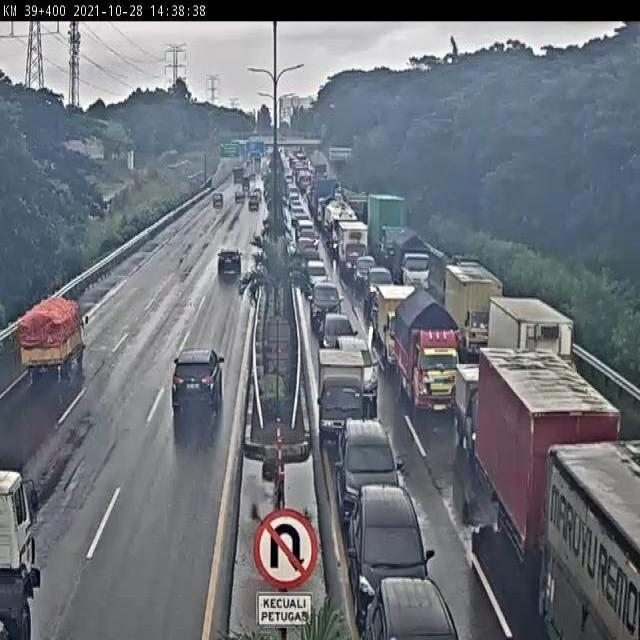big truck: (471, 348, 626, 563), (551, 442, 640, 640), (0, 458, 54, 640), (491, 294, 589, 378), (363, 196, 420, 271), (391, 227, 442, 290), (476, 347, 479, 356)
car: (343, 481, 436, 579), (362, 580, 455, 640), (333, 414, 400, 486), (165, 348, 232, 409), (328, 329, 384, 394), (213, 238, 243, 290), (316, 310, 355, 350), (308, 287, 345, 321), (291, 229, 327, 263), (298, 256, 333, 287), (363, 264, 398, 291), (355, 255, 379, 281)
small truck: (385, 293, 465, 416), (12, 293, 96, 376), (313, 347, 379, 440), (439, 256, 500, 355), (451, 363, 495, 460), (373, 290, 421, 366), (339, 222, 375, 278)
